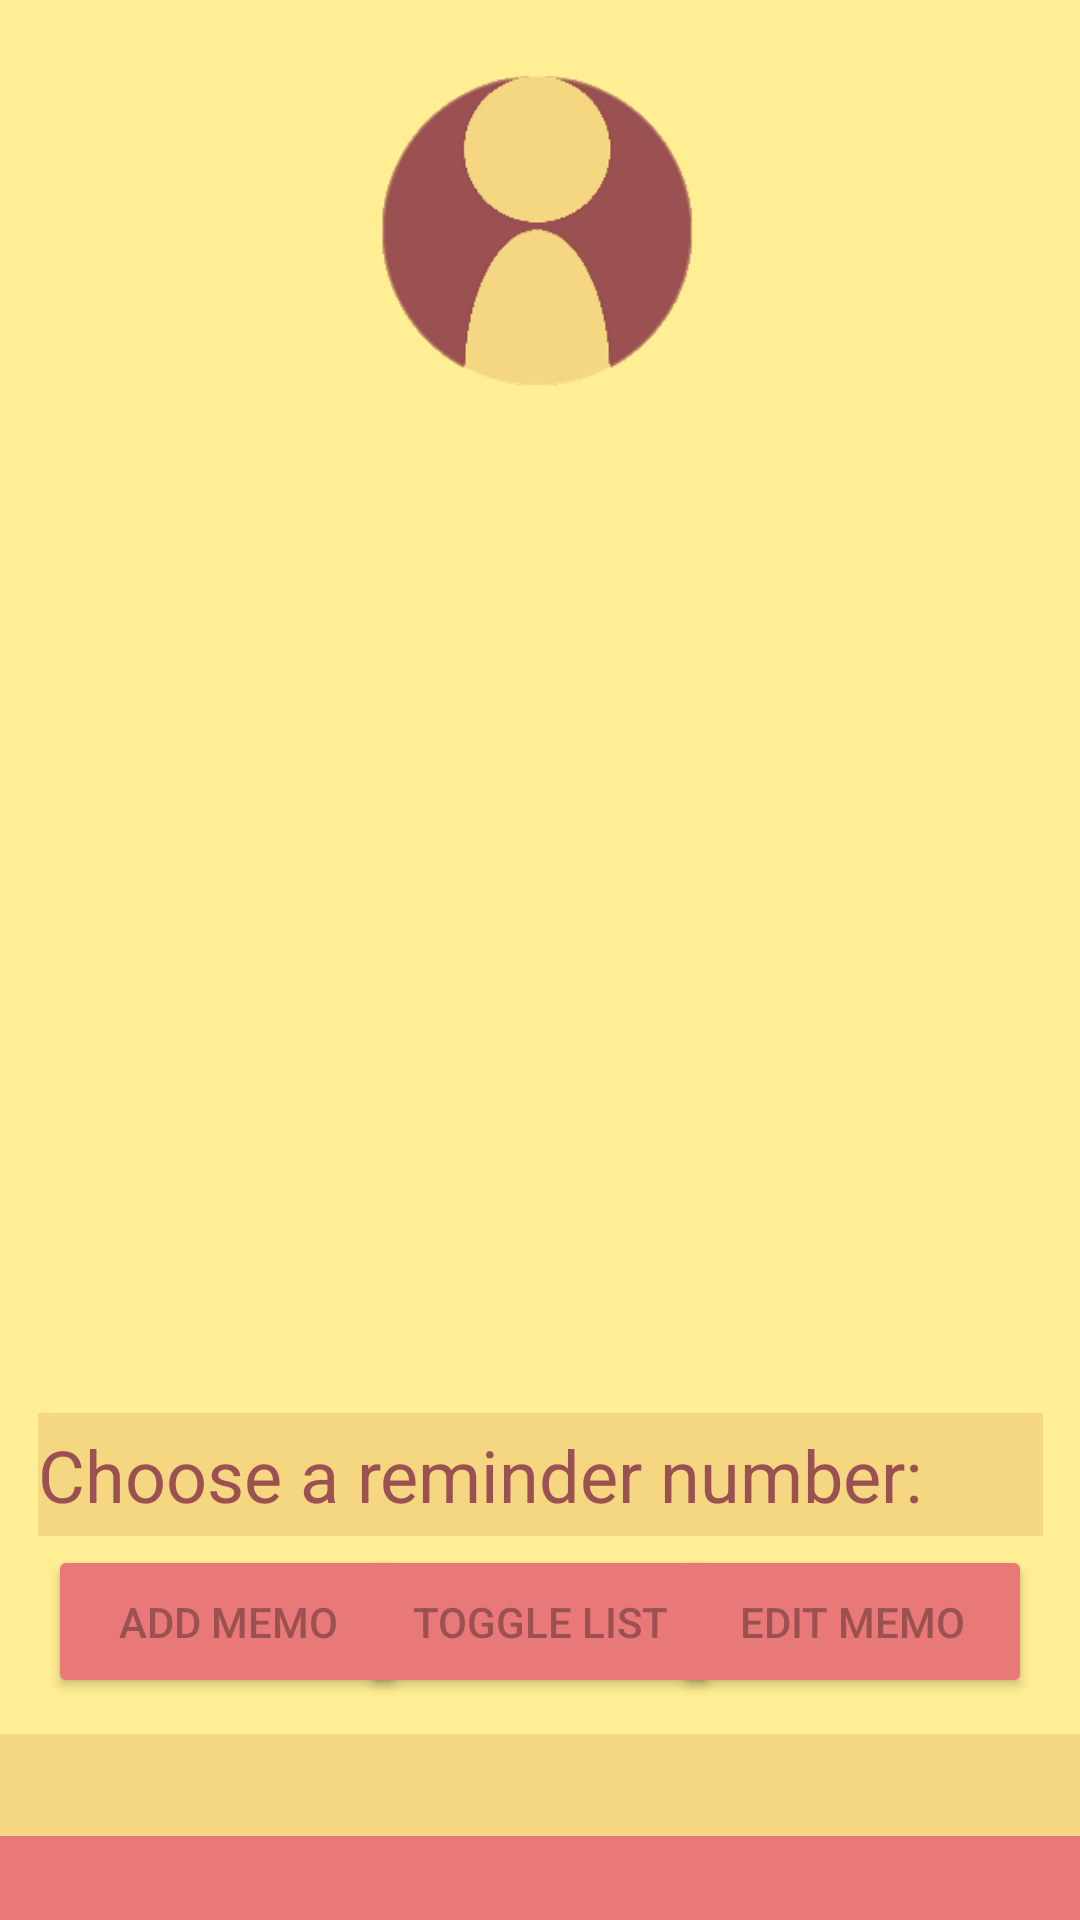

Locate icon controls on the screen. Image size 1080w x 1920h, boxes as bbox=[x1, y1, x2, y2].
account: bbox=[382, 76, 693, 386]
